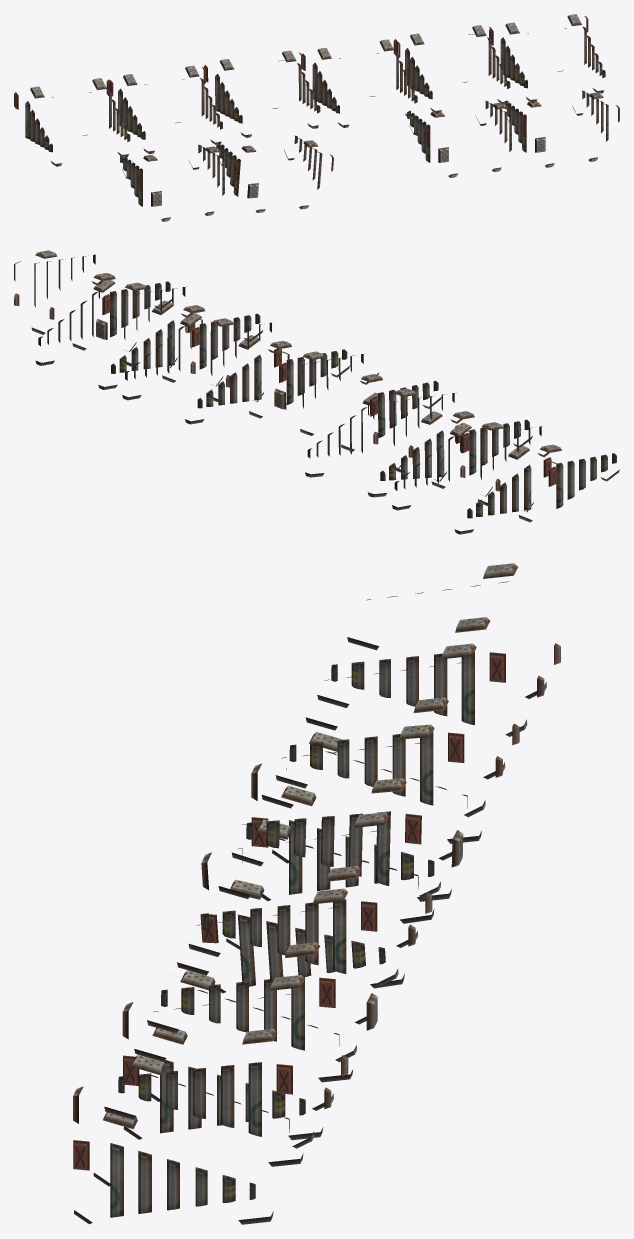
Rendered from prop_static_tan_container_01_02.glb.
3 views of the same model, one above another, from view 1: azimuth 30°, elevation 25°; view 2: azimuth 150°, elevation 25°; view 3: azimuth 270°, elevation 25° (orthographic). The views are drawn at different scales.
Parts seen in each view (by area): view 1: tan_container_01_02_LOD0; view 2: tan_container_01_02_LOD0; view 3: tan_container_01_02_LOD0.
Part boxes in pixels (left/top/right/bottom): tan_container_01_02_LOD0: left=14, top=14, right=619, bottom=221; tan_container_01_02_LOD0: left=14, top=250, right=619, bottom=534; tan_container_01_02_LOD0: left=73, top=563, right=560, bottom=1224.
Size of what is drawn, in the model's own units: 12.44 by 2.73 by 5.08.
Materials: 1 (1 with a texture image).
